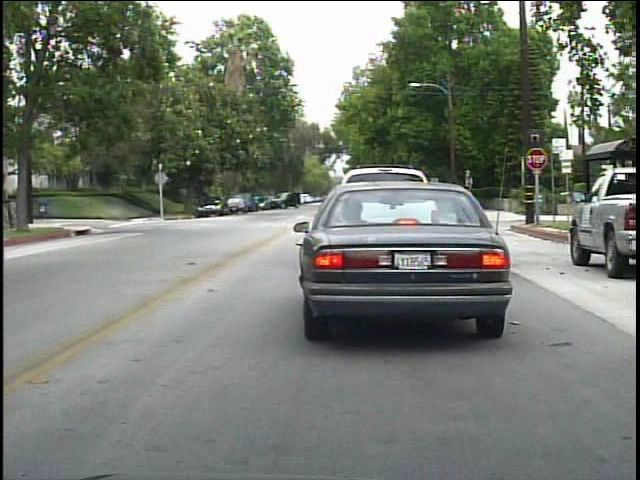person: (253, 189, 261, 212)
